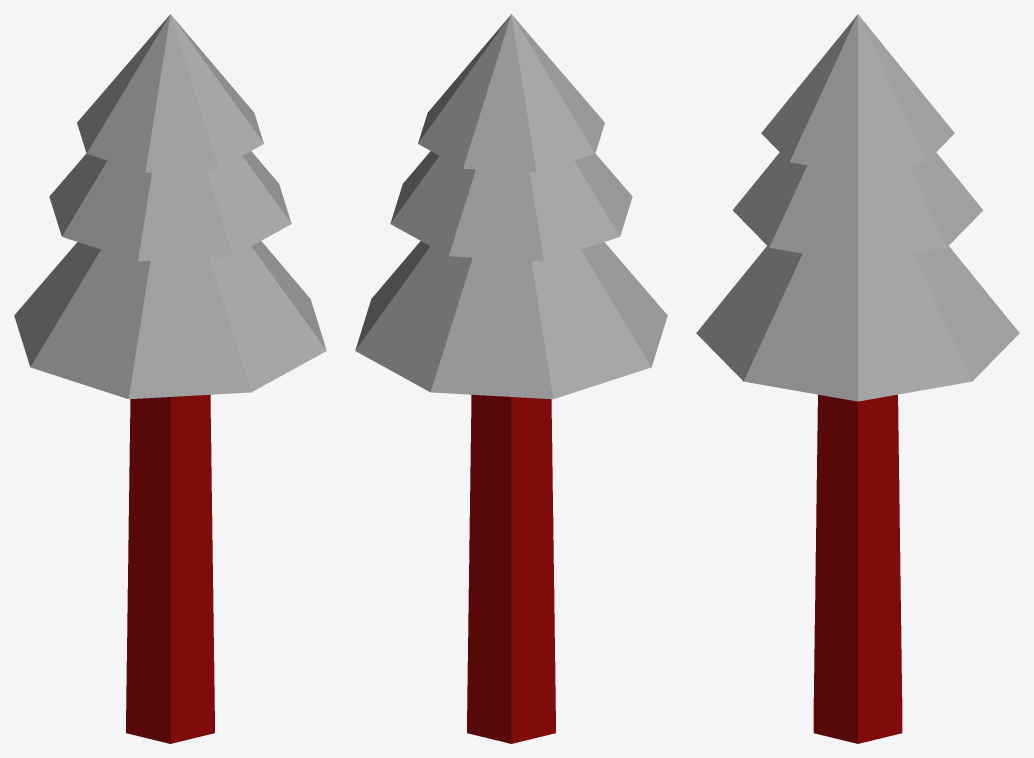
File: Three_3.fbx
The picture shows the model from 3 angles, left to right: view 1: azimuth 30°, elevation 25°; view 2: azimuth 150°, elevation 25°; view 3: azimuth 270°, elevation 25°; orthographic projection.
Visible parts, largest first — view 1: group2_pasted__group1_pasted__pasted__pCone1; view 2: group2_pasted__group1_pasted__pasted__pCone1; view 3: group2_pasted__group1_pasted__pasted__pCone1.
Part boxes in pixels (box(x1,y1,x2,y2)): group2_pasted__group1_pasted__pasted__pCone1: box(14, 14, 326, 743); group2_pasted__group1_pasted__pasted__pCone1: box(355, 14, 667, 743); group2_pasted__group1_pasted__pasted__pCone1: box(696, 14, 1019, 743).
Bounding box in the file's own units: 6.32 × 15.26 × 6.32.
